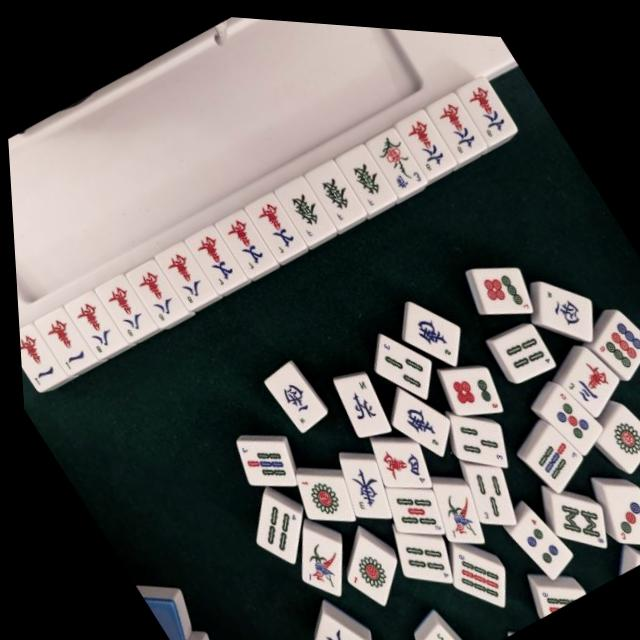bf3: (363, 120, 425, 192)
hdg: (301, 152, 365, 225), (332, 137, 396, 209), (273, 170, 334, 241)
sc1: (32, 308, 91, 376), (15, 324, 60, 391)
sc6: (453, 66, 516, 139), (424, 84, 486, 155), (394, 103, 455, 172)
sc7: (211, 203, 275, 276), (242, 188, 305, 259), (182, 221, 244, 291)
sc8: (151, 238, 213, 308), (92, 273, 153, 342), (123, 256, 182, 326), (63, 289, 122, 359)
